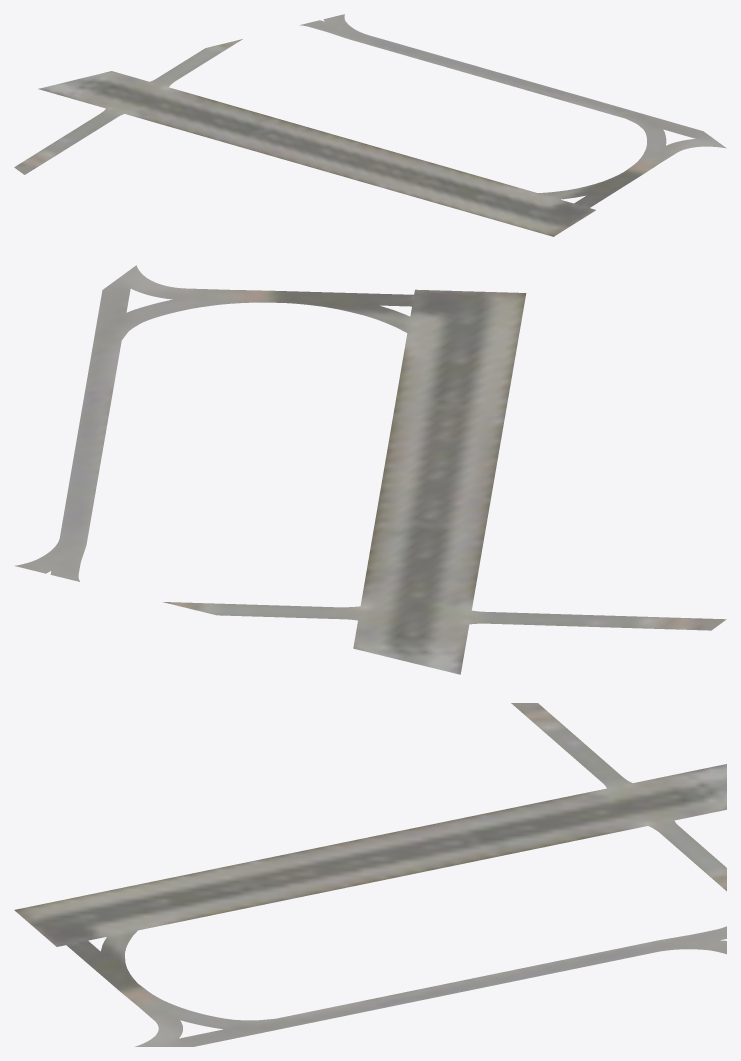
File: LSZH_1_-3.glb
The picture shows the model from 3 angles, top to bottom: view 1: azimuth 30°, elevation 25°; view 2: azimuth 150°, elevation 25°; view 3: azimuth 270°, elevation 25°; orthographic projection. The views are drawn at different scales.
Visible parts, largest first — view 1: pavement_LSZH_pavement_5368_2511; view 2: pavement_LSZH_pavement_5368_2511; view 3: pavement_LSZH_pavement_5368_2511.
Boxes of the visible parts, x1,y1,x2,y2 form: pavement_LSZH_pavement_5368_2511: [14, 14, 726, 236]; pavement_LSZH_pavement_5368_2511: [14, 265, 726, 674]; pavement_LSZH_pavement_5368_2511: [14, 703, 726, 1046].
Size of the model in its own units: 500 by 0.0829 by 438.
1 material, 1 textured.
